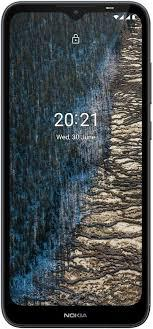Smartphone: (6, 7, 150, 326)
